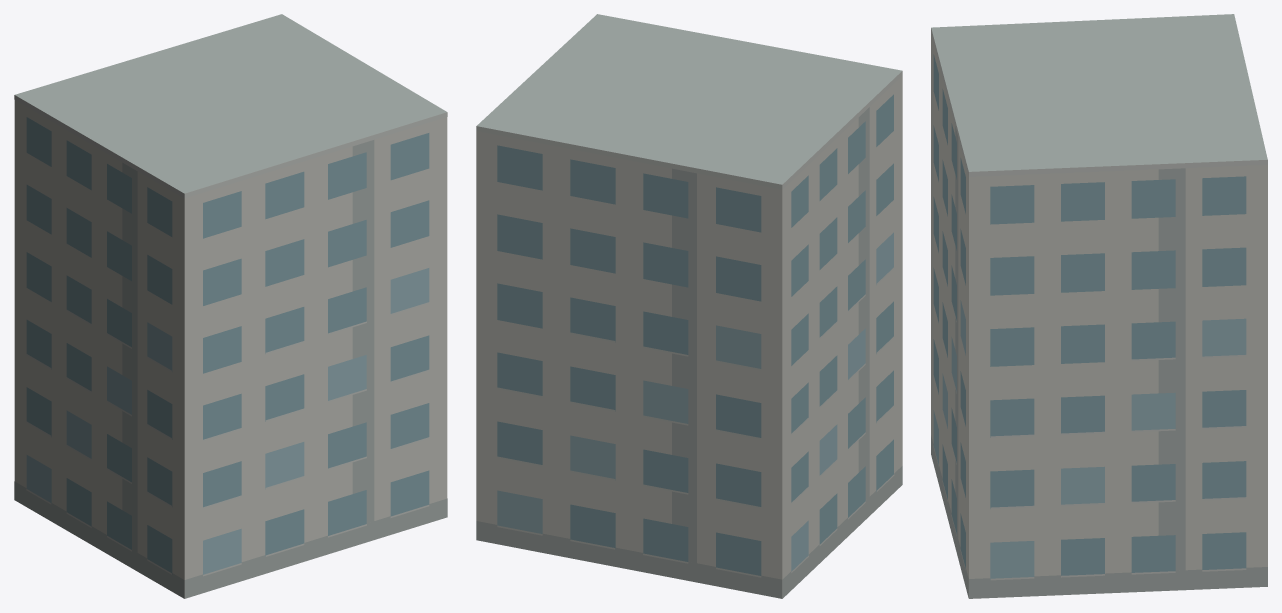
Rendered from survey-upis-32971131.glb.
The picture shows the model from 3 angles, left to right: view 1: azimuth 30°, elevation 25°; view 2: azimuth 150°, elevation 25°; view 3: azimuth 270°, elevation 25°; orthographic projection. The views are drawn at different scales.
Parts seen in each view (by area): view 1: survey-upis-32971131.tmp; view 2: survey-upis-32971131.tmp; view 3: survey-upis-32971131.tmp.
Part boxes in pixels (x1=…): survey-upis-32971131.tmp: x1=14, y1=14, x2=447, y2=598; survey-upis-32971131.tmp: x1=476, y1=14, x2=902, y2=598; survey-upis-32971131.tmp: x1=931, y1=14, x2=1267, y2=598.
Size of the model in its own units: 15.93 by 20.08 by 14.36.
